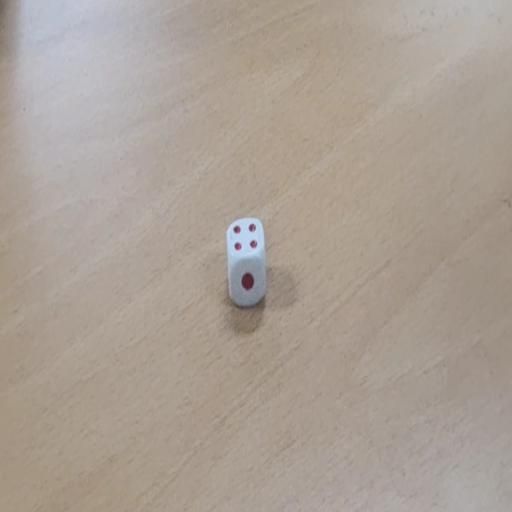dice_4: (226, 216, 268, 308)
